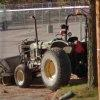Tractor: (11, 17, 100, 87)
